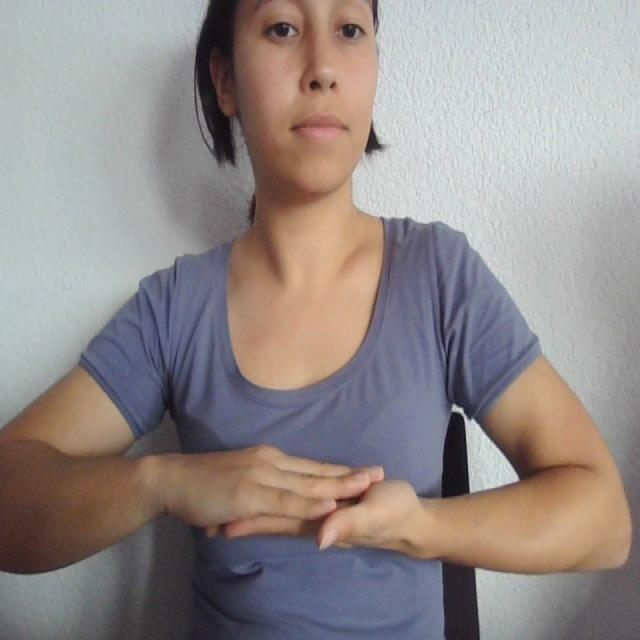Arkadas: (102, 424, 529, 586)
